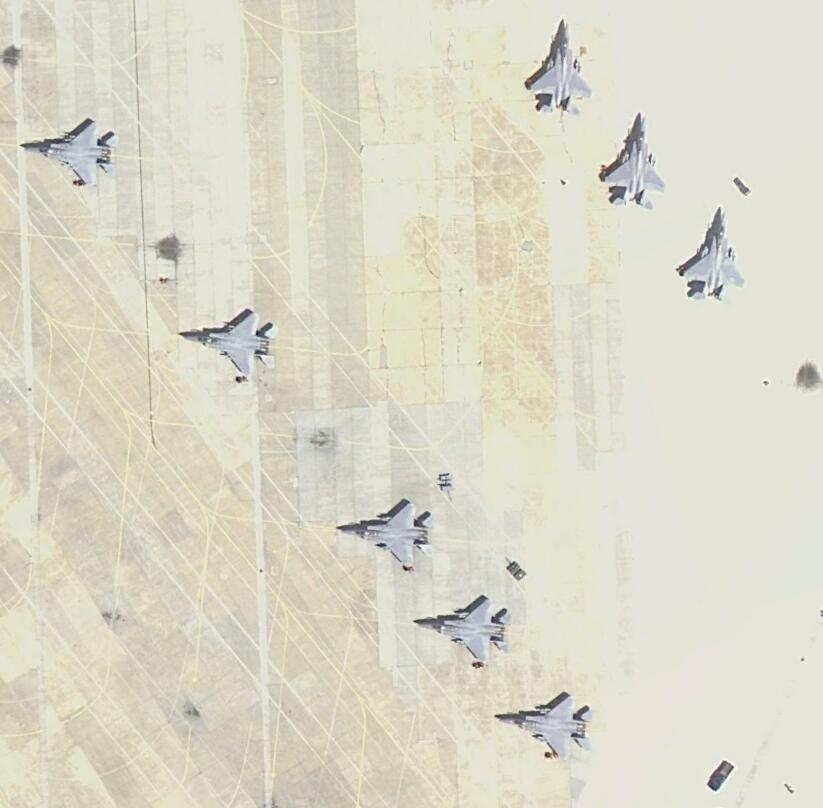A13: (414, 595, 519, 668), (338, 500, 439, 575), (178, 311, 285, 379), (497, 692, 600, 762), (676, 205, 748, 305), (21, 117, 120, 189), (529, 17, 596, 120), (601, 111, 668, 212)
